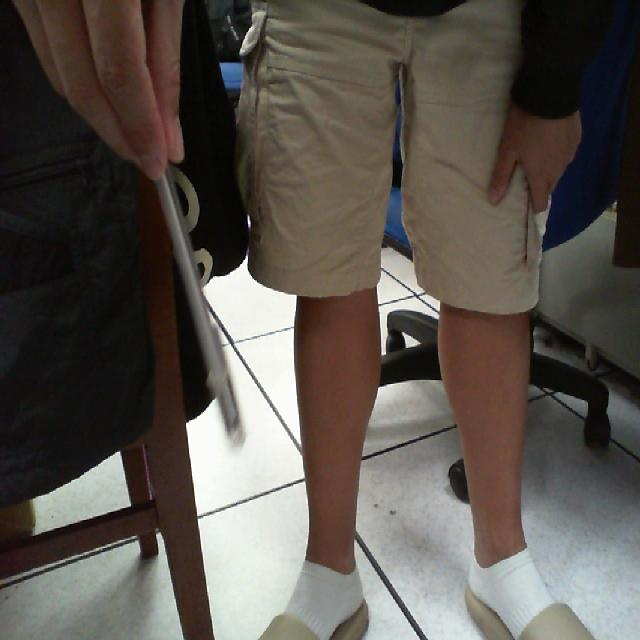Pen: (136, 66, 269, 518)
